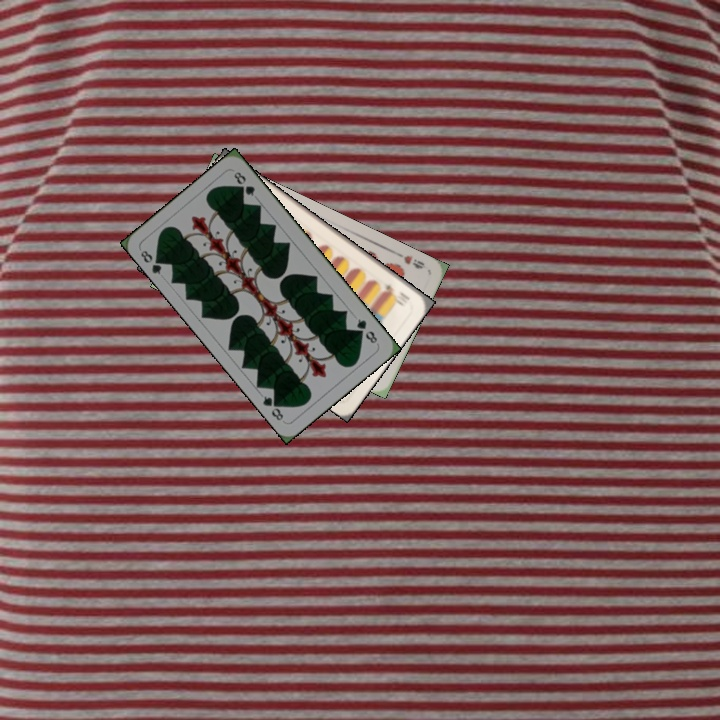E10: (381, 280, 412, 307)
G8: (136, 246, 167, 277), (352, 314, 380, 346)
H9: (391, 248, 428, 271)
